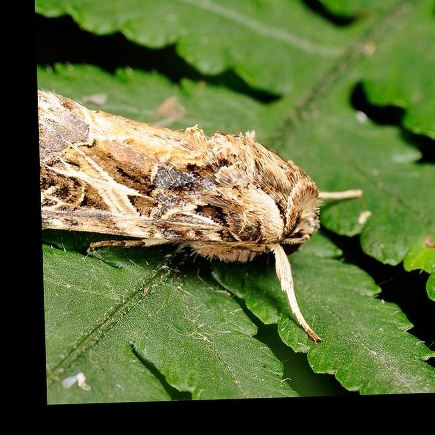Spodoptera litura: (40, 80, 364, 349)
